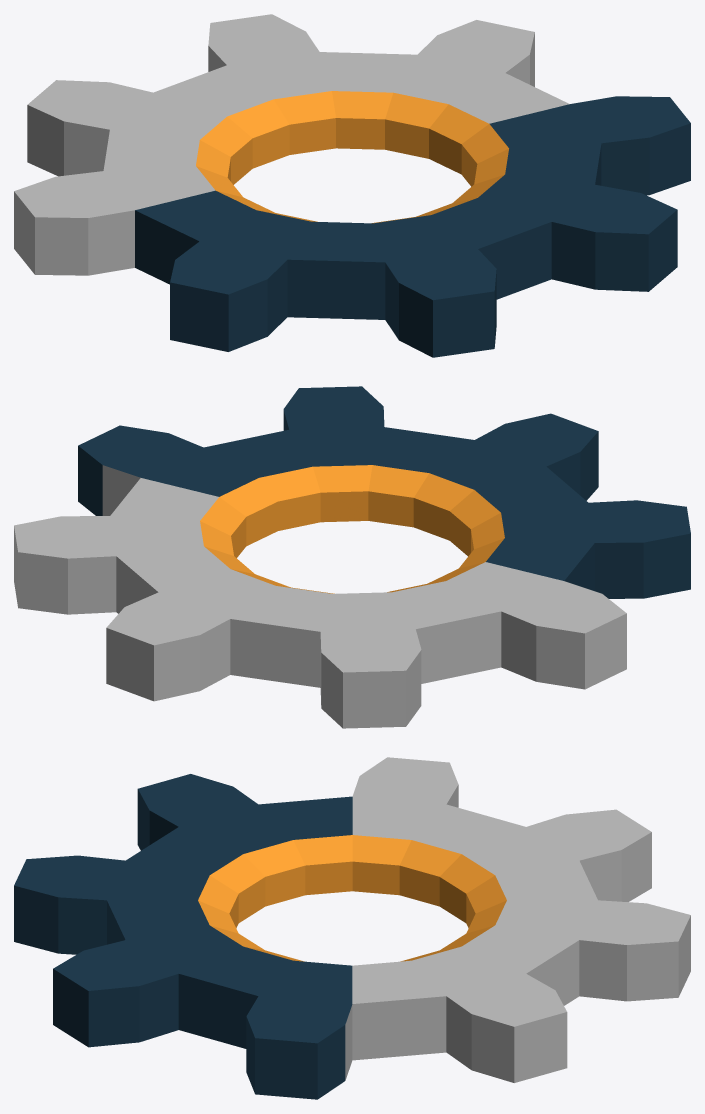
File: gear.fbx
The picture shows the model from 3 angles, top to bottom: view 1: azimuth 30°, elevation 25°; view 2: azimuth 150°, elevation 25°; view 3: azimuth 270°, elevation 25°; orthographic projection. The views are drawn at different scales.
Visible parts, largest first — view 1: Circle; view 2: Circle; view 3: Circle.
Part boxes in pixels (bbox=[...]): Circle: bbox=[14, 14, 690, 357]; Circle: bbox=[14, 386, 690, 728]; Circle: bbox=[14, 757, 690, 1099].
Bounding box in the file's own units: 276 × 25.3 × 276.
